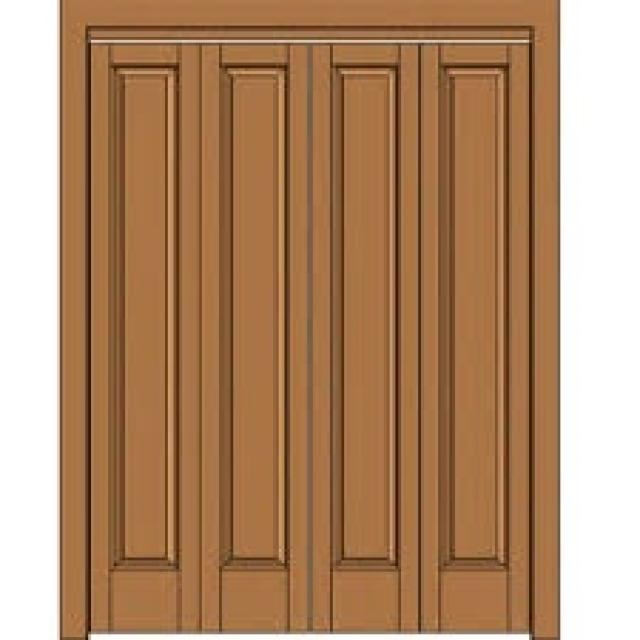door: (60, 1, 560, 638)
